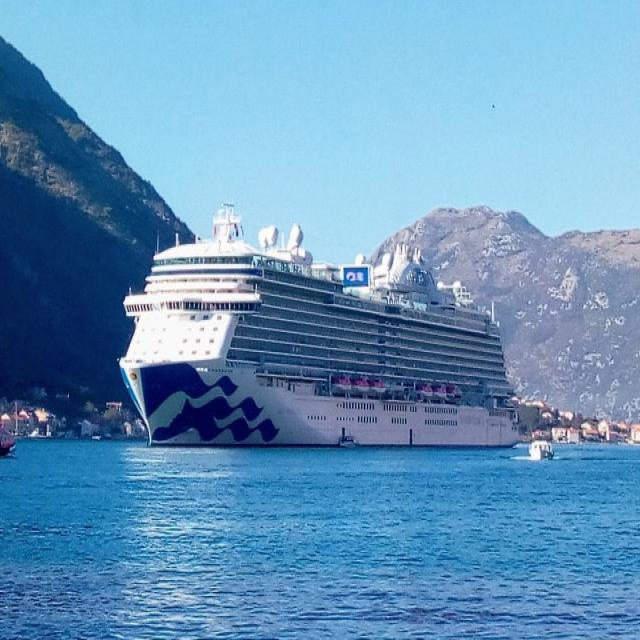cruises: (113, 196, 529, 458)
